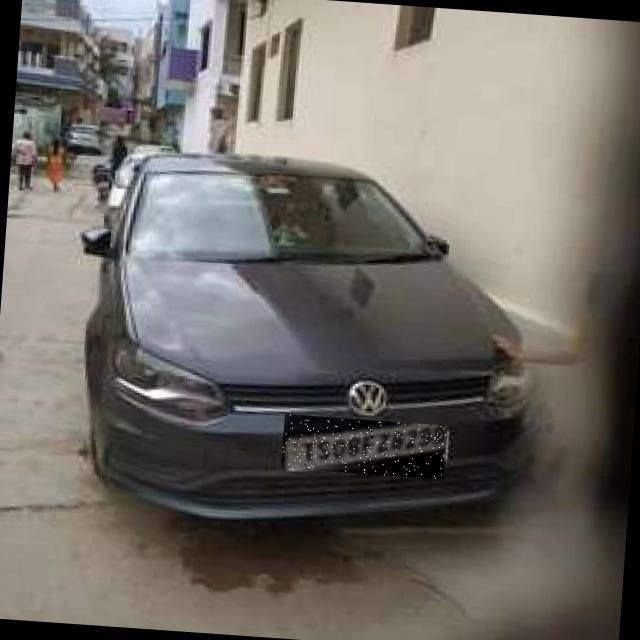Plate: (282, 415, 448, 480)
